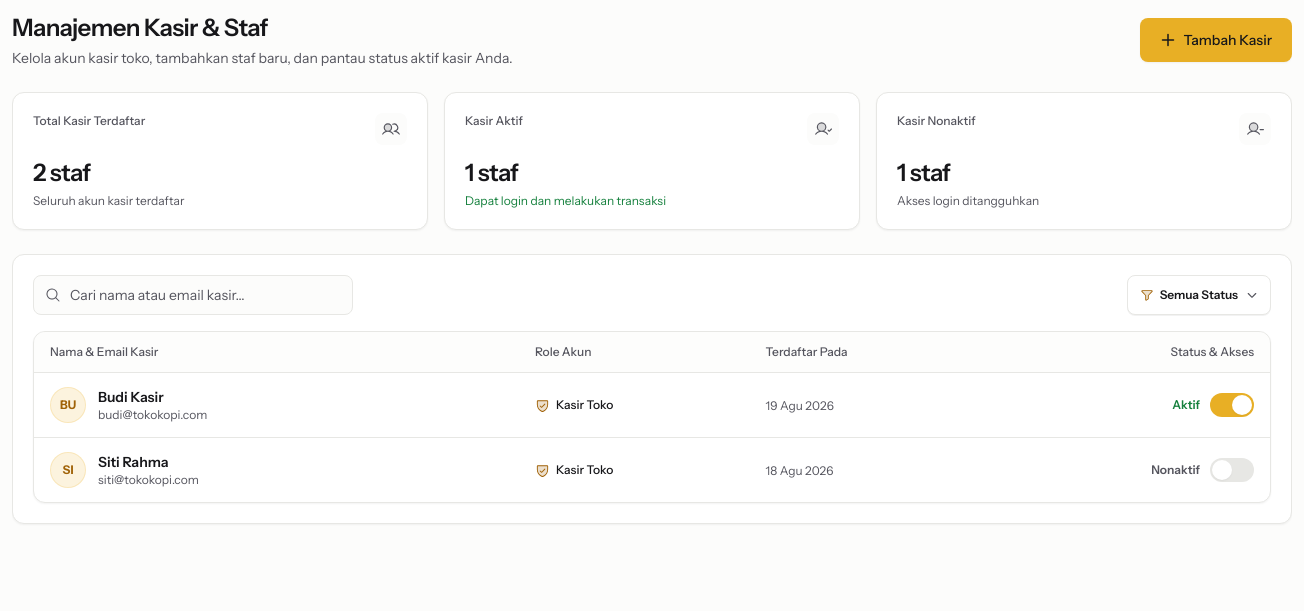
Test: StaffView › handles toggle failure gracefully and displays error banner with AppError message
The width and height of the screenshot is (1304, 611).
Click the switch named "Ubah status kasir Budi Kasir" at (1232, 405), box [1210,393,1254,417]
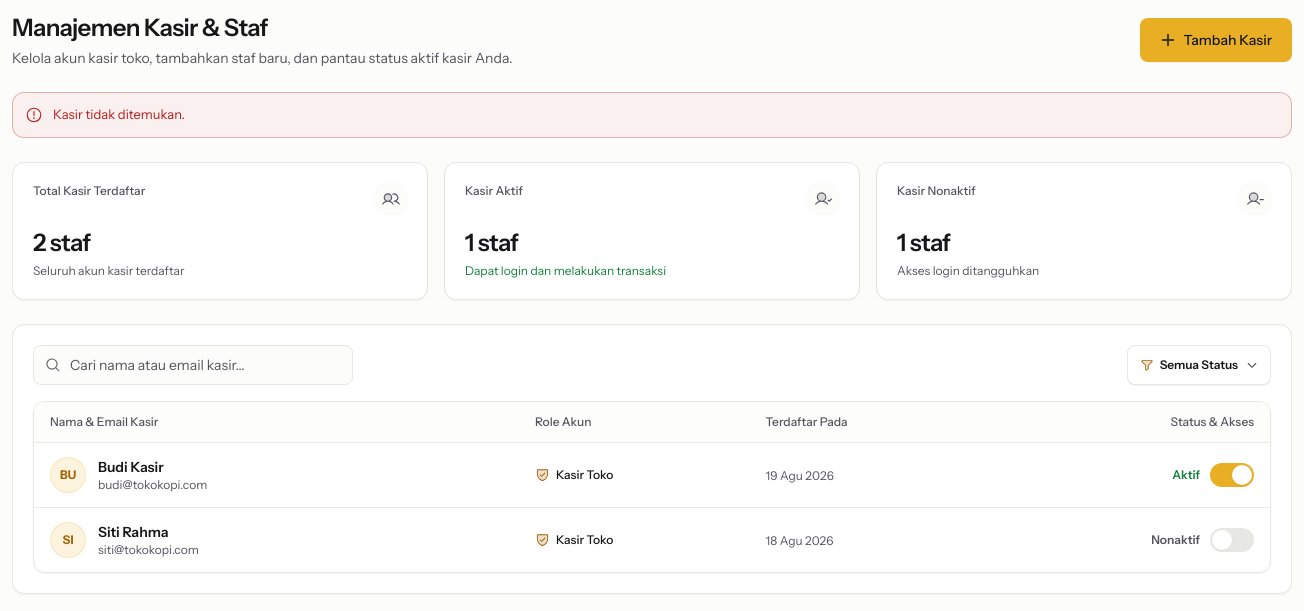
Check: the text "Kasir tidak ditemukan." is shown, box [53,105,185,124]
